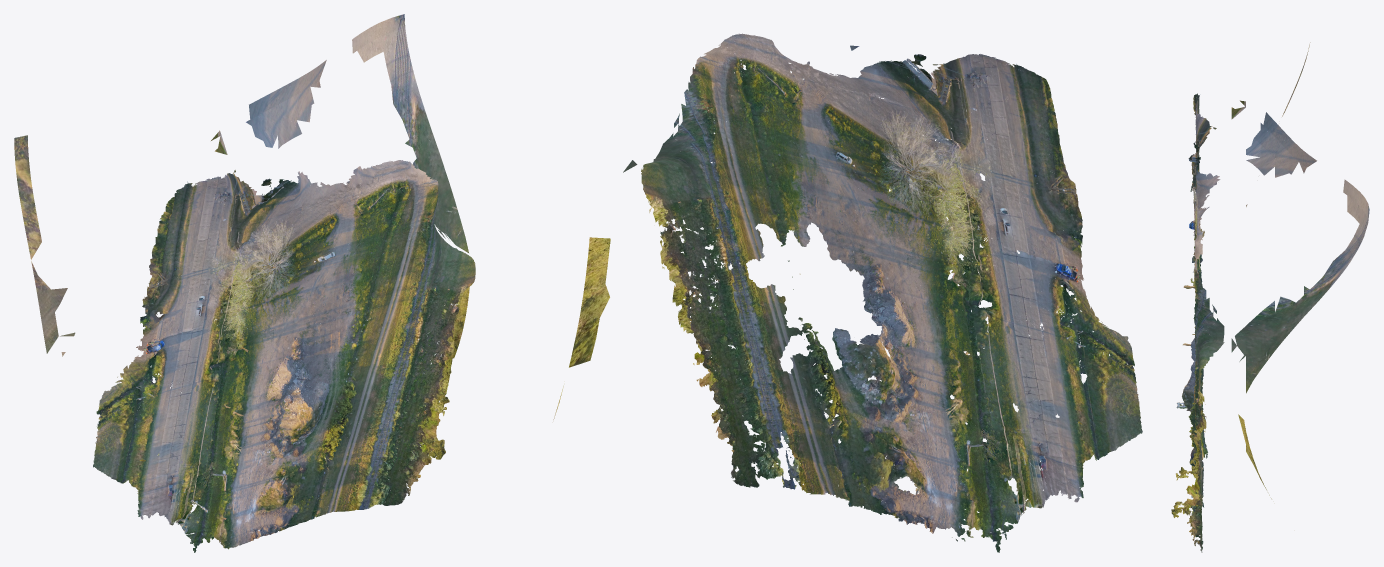
Rendered from modelo-media.glb.
3 renders of one model, left to right at view 1: azimuth 30°, elevation 25°; view 2: azimuth 150°, elevation 25°; view 3: azimuth 270°, elevation 25°, orthographic. The views are drawn at different scales.
Bounding box in the file's own units: 144 × 133 × 61.58.
12 materials, 12 textured.
